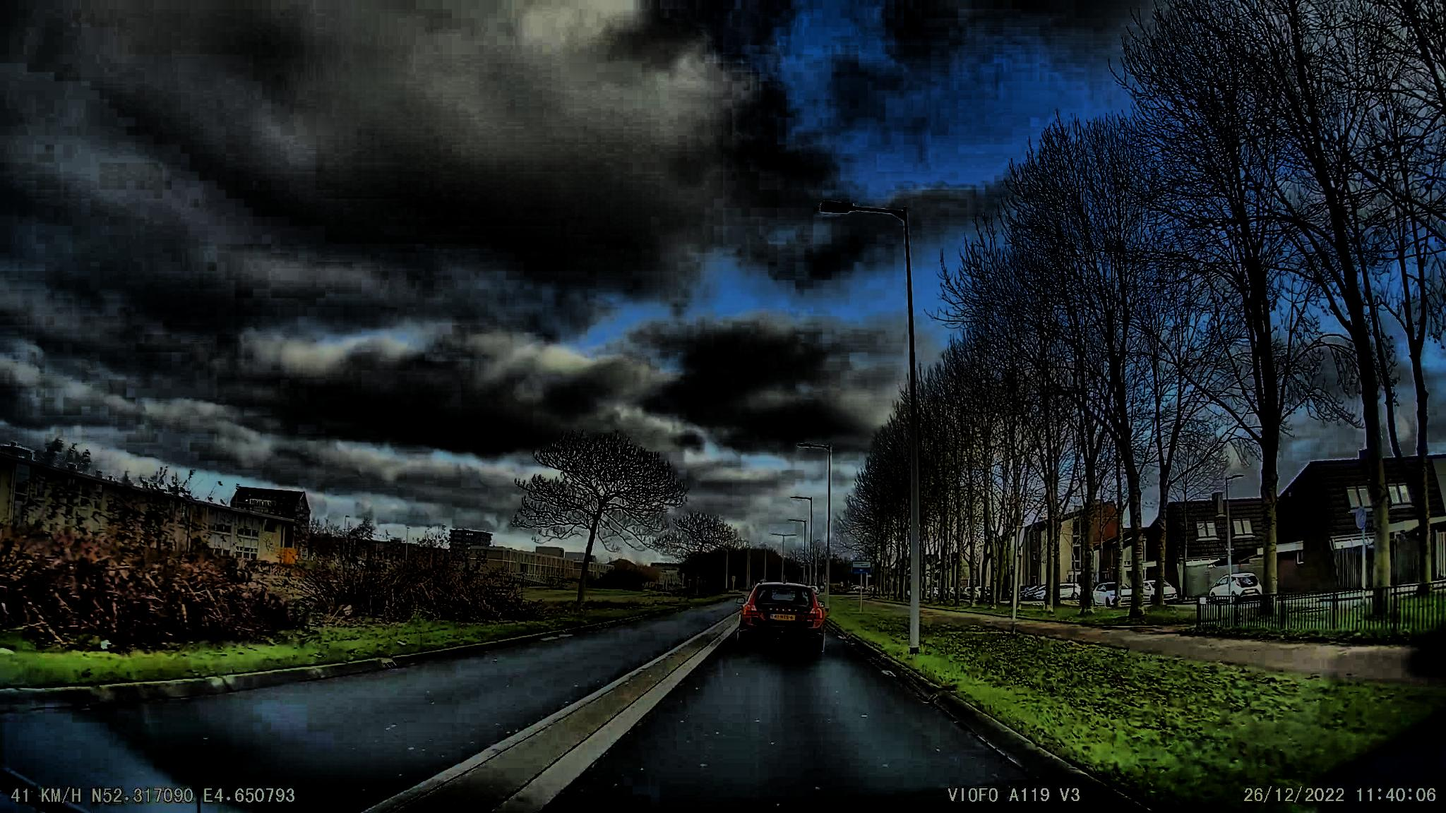Roads: (0, 607, 1153, 813)
